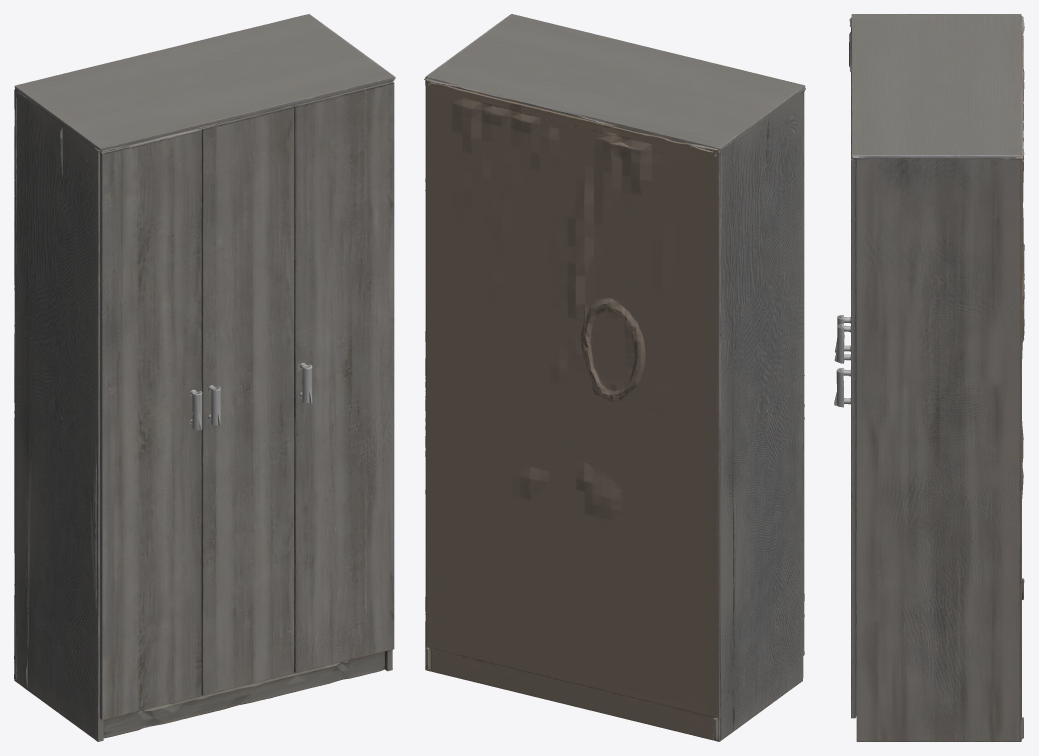
The model's file is No Name-05.glb.
The picture shows the model from 3 angles, left to right: view 1: azimuth 30°, elevation 25°; view 2: azimuth 150°, elevation 25°; view 3: azimuth 270°, elevation 25°; orthographic projection.
Parts seen in each view (by area): view 1: tripo_node_f71f6af3-8fa7-4181-b374-0ec4f4eaab9e; view 2: tripo_node_f71f6af3-8fa7-4181-b374-0ec4f4eaab9e; view 3: tripo_node_f71f6af3-8fa7-4181-b374-0ec4f4eaab9e.
Boxes of the visible parts, x1,y1,x2,y2 form: tripo_node_f71f6af3-8fa7-4181-b374-0ec4f4eaab9e: (14, 14, 395, 741); tripo_node_f71f6af3-8fa7-4181-b374-0ec4f4eaab9e: (424, 14, 805, 741); tripo_node_f71f6af3-8fa7-4181-b374-0ec4f4eaab9e: (834, 14, 1024, 741).
Bounding box in the file's own units: 0.5114 × 0.9775 × 0.2871.
1 material, 1 textured.
